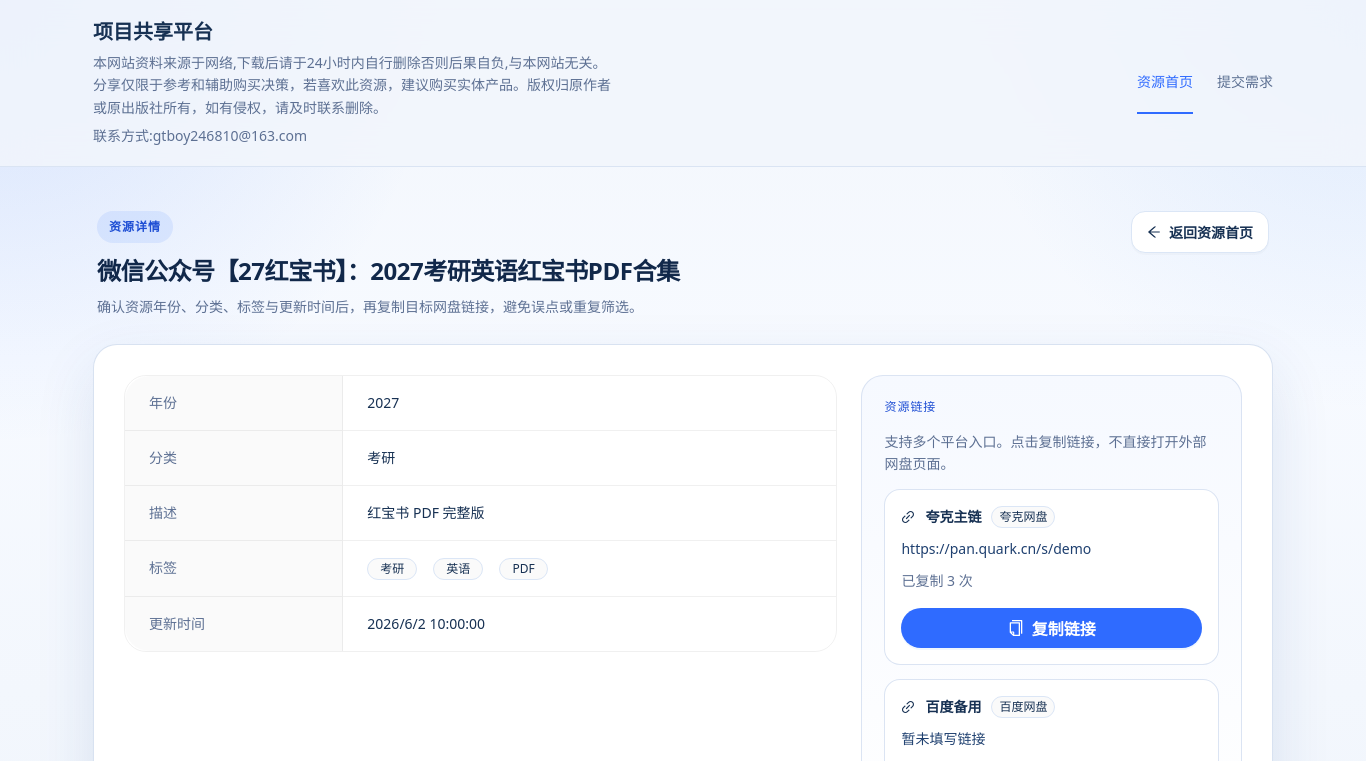
Test: app routes › renders a focused resource detail action area
Expected: the text "资源详情" is shown, [97,211,173,243]
Expected: the text "夸克主链" is shown, [926,506,982,528]
Click the button with aria-label "复制夸克主链链接". click: coordinates (1052, 628)
box: [902,608,1202,648]
(page scrolled)
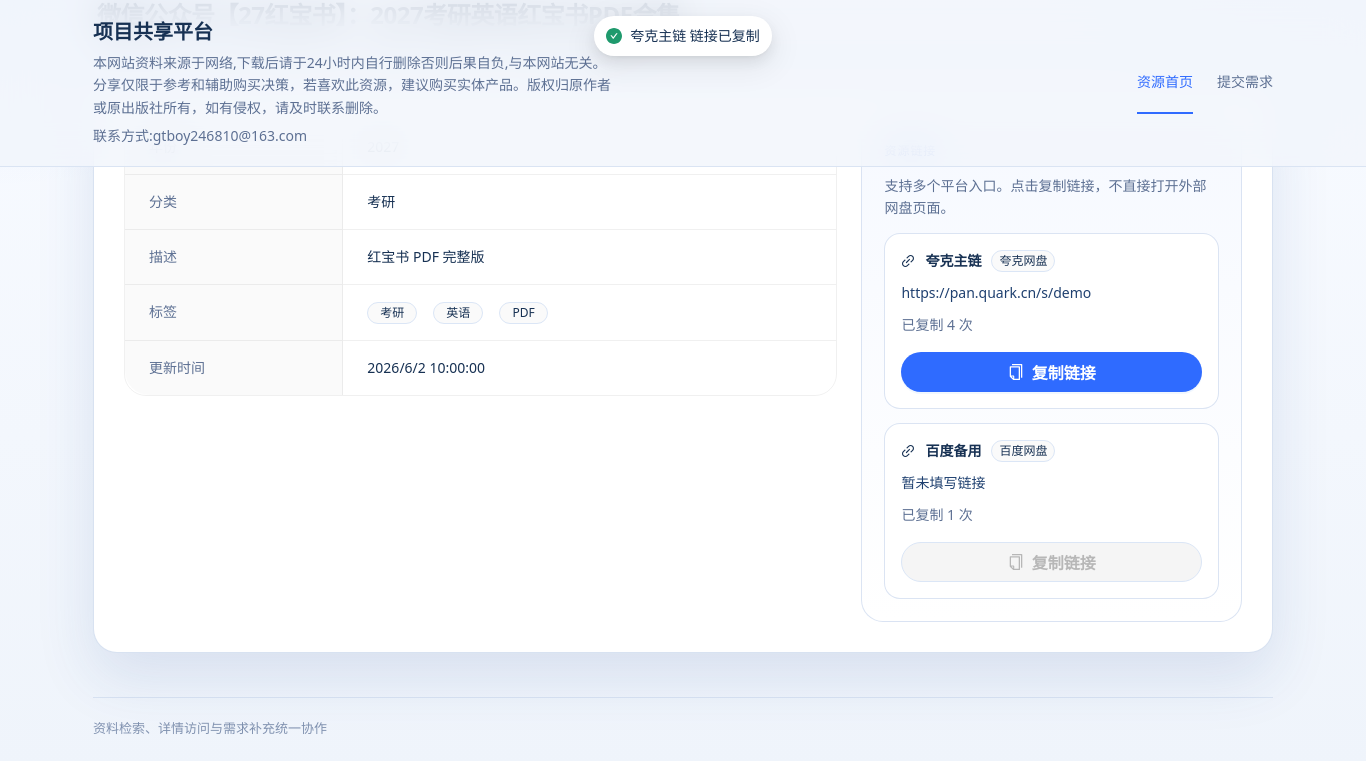
Expected: the button with aria-label "复制百度备用链接" is disabled, [902,542,1202,582]
Expected: the text "已复制 4 次" is shown, [902,315,973,334]
